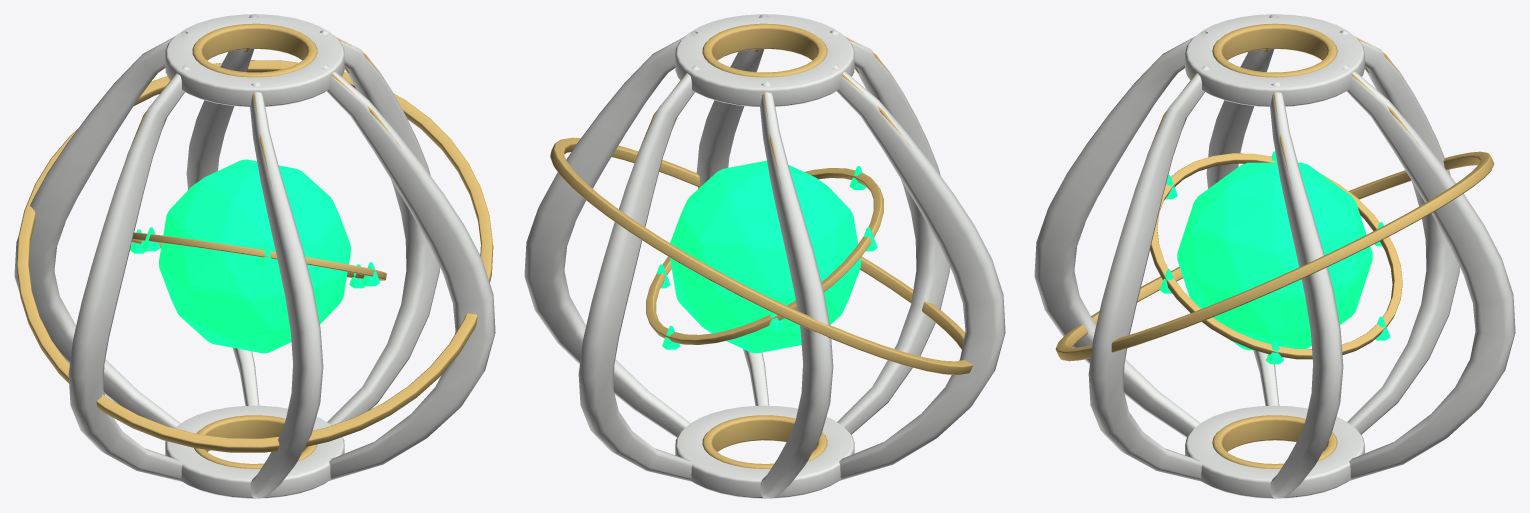
The model's file is relic_emerald_sphere.glb.
3 renders of one model, left to right at view 1: azimuth 30°, elevation 25°; view 2: azimuth 150°, elevation 25°; view 3: azimuth 270°, elevation 25°, orthographic.
Parts seen in each view (by area): view 1: Emerald_Niemeyer_Arches, Emerald_Crystal_Sphere, Emerald_BrushedGold_Trim; view 2: Emerald_Niemeyer_Arches, Emerald_Crystal_Sphere, Emerald_BrushedGold_Trim; view 3: Emerald_Niemeyer_Arches, Emerald_Crystal_Sphere, Emerald_BrushedGold_Trim.
Part boxes in pixels (x1,y1,x2,y2): Emerald_Niemeyer_Arches: (14,14,495,498); Emerald_Crystal_Sphere: (130,159,380,353); Emerald_BrushedGold_Trim: (16,23,493,468); Emerald_Niemeyer_Arches: (524,14,1005,498); Emerald_Crystal_Sphere: (656,160,877,353); Emerald_BrushedGold_Trim: (550,23,972,468); Emerald_Niemeyer_Arches: (1034,14,1515,498); Emerald_Crystal_Sphere: (1159,151,1390,364); Emerald_BrushedGold_Trim: (1055,23,1494,468).
Bounding box in the file's own units: 1.59 × 1.49 × 1.56.
